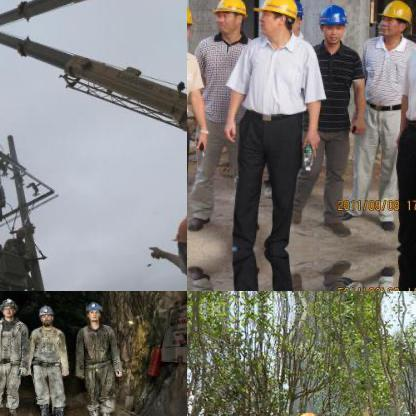Helmet: (253, 0, 298, 43), (165, 203, 186, 273), (379, 0, 414, 42), (318, 0, 347, 48), (212, 0, 249, 37), (83, 298, 103, 324), (0, 297, 19, 320), (34, 302, 53, 324), (291, 407, 325, 415)
